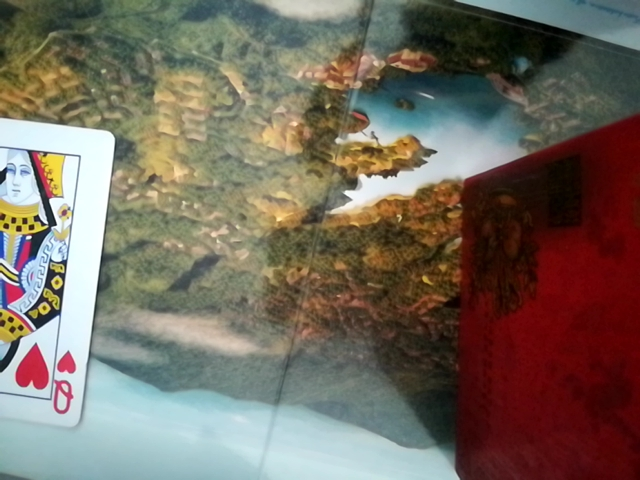hx q: (2, 114, 115, 434)
